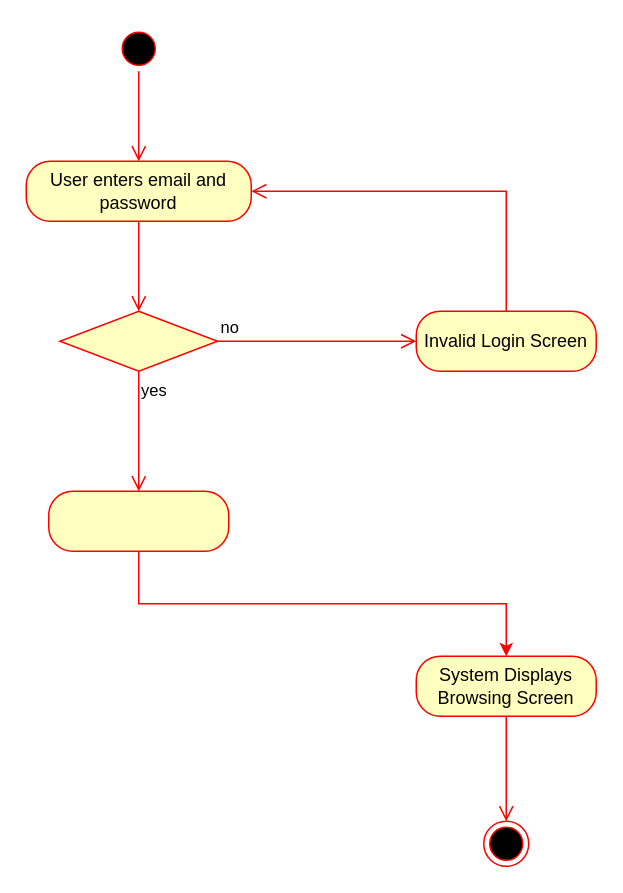
Image size: 623x893. Some labels were removed from this diagram. The centre of each missing label's shape, as x and y in pixels:
"User successfully logs" belongs at point 138,520.
"Valid Login" belongs at point 138,340.
